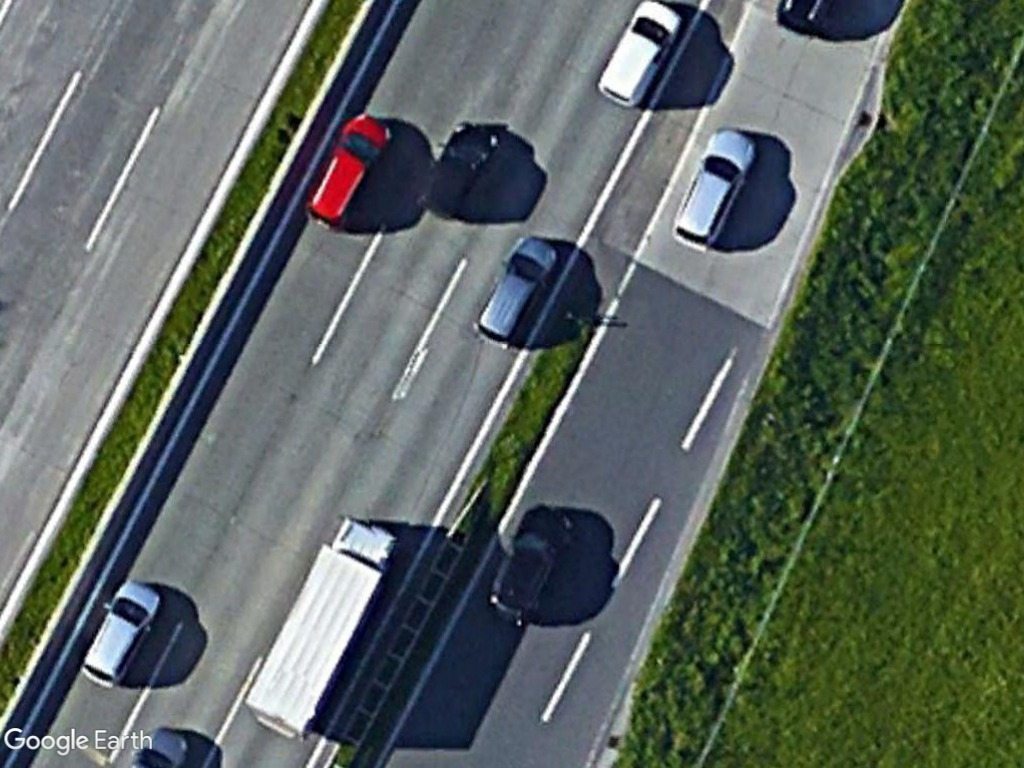car: (667, 122, 766, 256), (482, 496, 579, 627), (303, 103, 398, 232), (77, 572, 172, 690), (467, 232, 560, 350), (591, 0, 689, 109), (416, 110, 502, 224)
truck: (242, 511, 401, 744)
